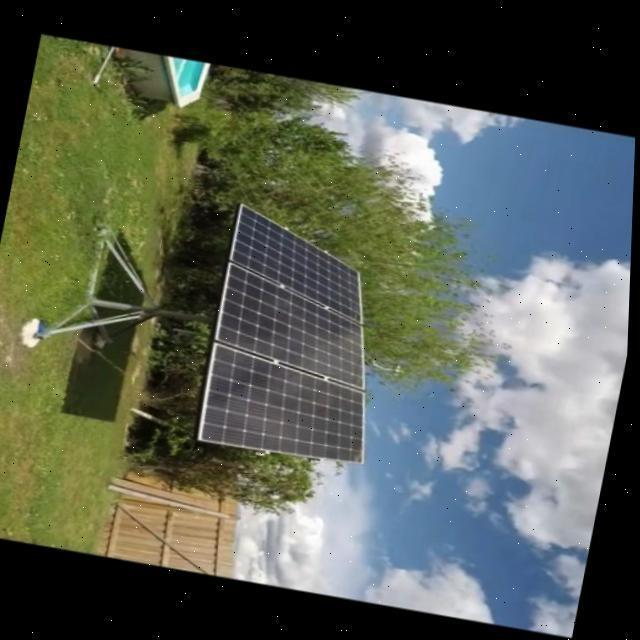Normal Solar Panel: (195, 344, 382, 468), (209, 262, 385, 388), (220, 202, 382, 322)
